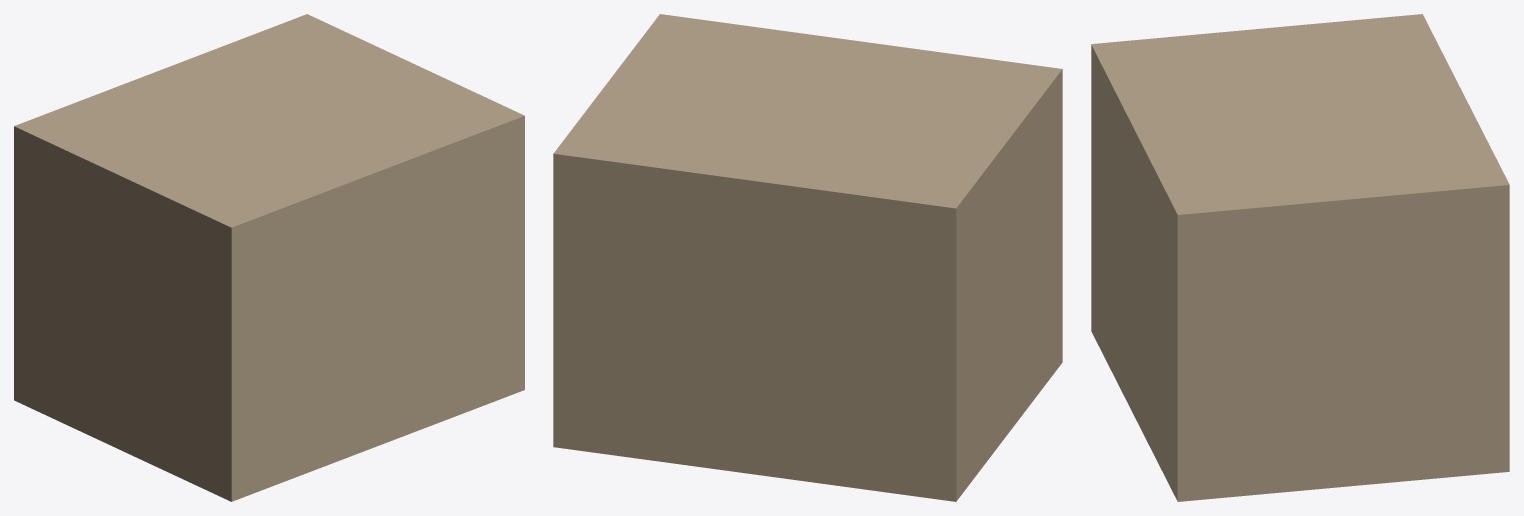
File: bld_109034871.dae
3 views of the same model, side by side, from view 1: azimuth 30°, elevation 25°; view 2: azimuth 150°, elevation 25°; view 3: azimuth 270°, elevation 25° (orthographic). The views are drawn at different scales.
Parts seen in each view (by area): view 1: bld_109034871; view 2: bld_109034871; view 3: bld_109034871.
Boxes of the visible parts, x1,y1,x2,y2 form: bld_109034871: (14, 14, 524, 501); bld_109034871: (553, 14, 1062, 501); bld_109034871: (1091, 14, 1509, 501).
Size of the model in its own units: 12.03 by 10.58 by 8.
